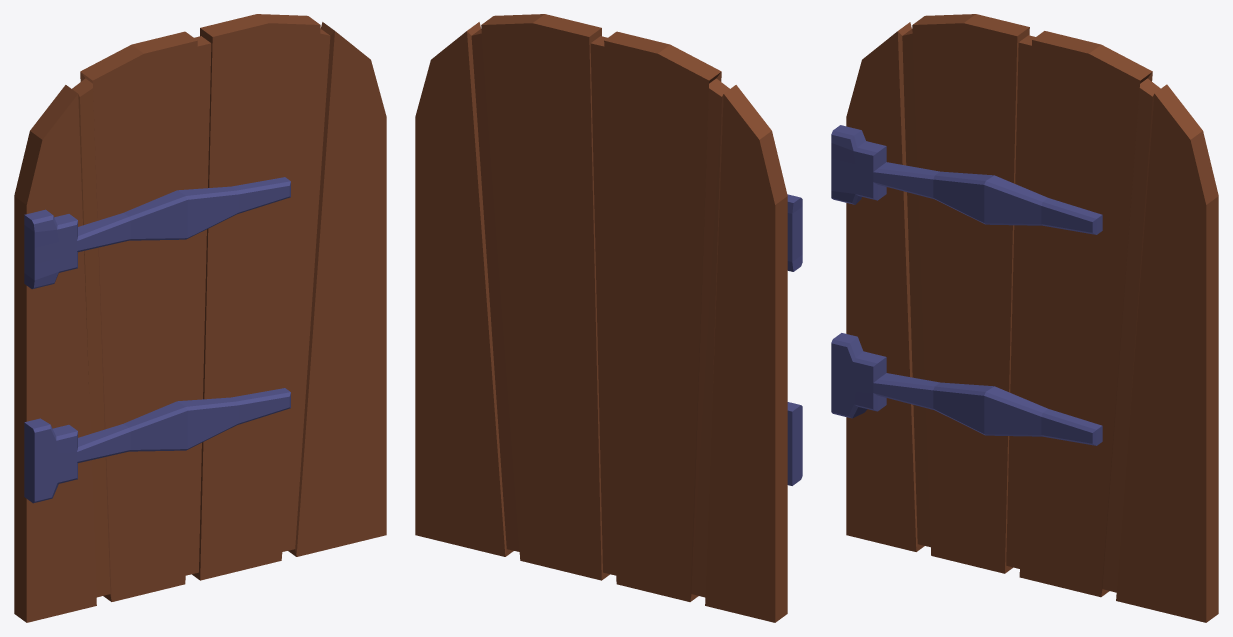
The model's file is Door_fixed.fbx.
3 renders of one model, left to right at view 1: azimuth 30°, elevation 25°; view 2: azimuth 150°, elevation 25°; view 3: azimuth 330°, elevation 25°, orthographic.
Visible parts, largest first — view 1: Door.001; view 2: Door.001; view 3: Door.001.
Part boxes in pixels (left/top/right/bottom): Door.001: left=14, top=14, right=386, bottom=622; Door.001: left=415, top=14, right=802, bottom=622; Door.001: left=831, top=14, right=1218, bottom=622.
Bounding box in the file's own units: 2.04 × 2.89 × 0.2339.
